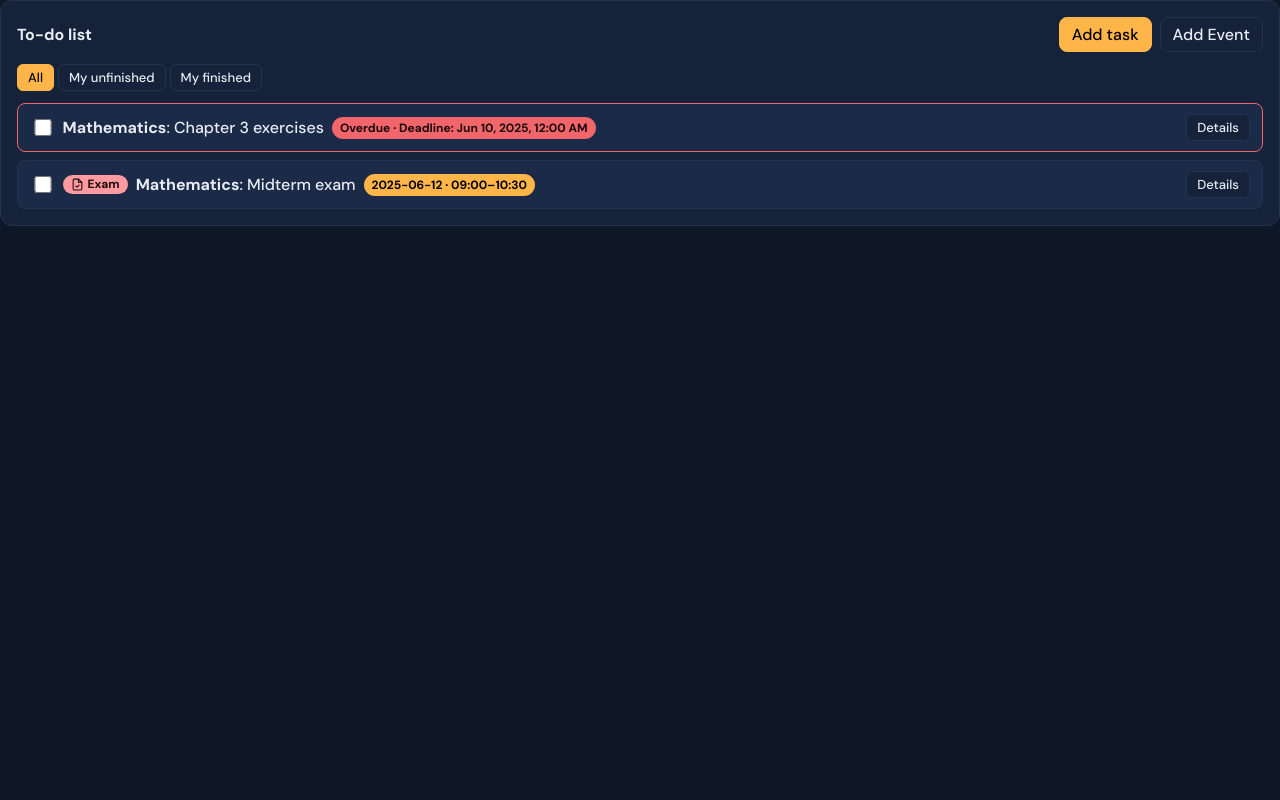
Scenario: TaskList merged tasks + events › shows an officer Remove control inside the event popup
The image size is (1280, 800).
Click the button with aria-label "Details for event Midterm exam": (1218, 184) [1186,171,1250,198]
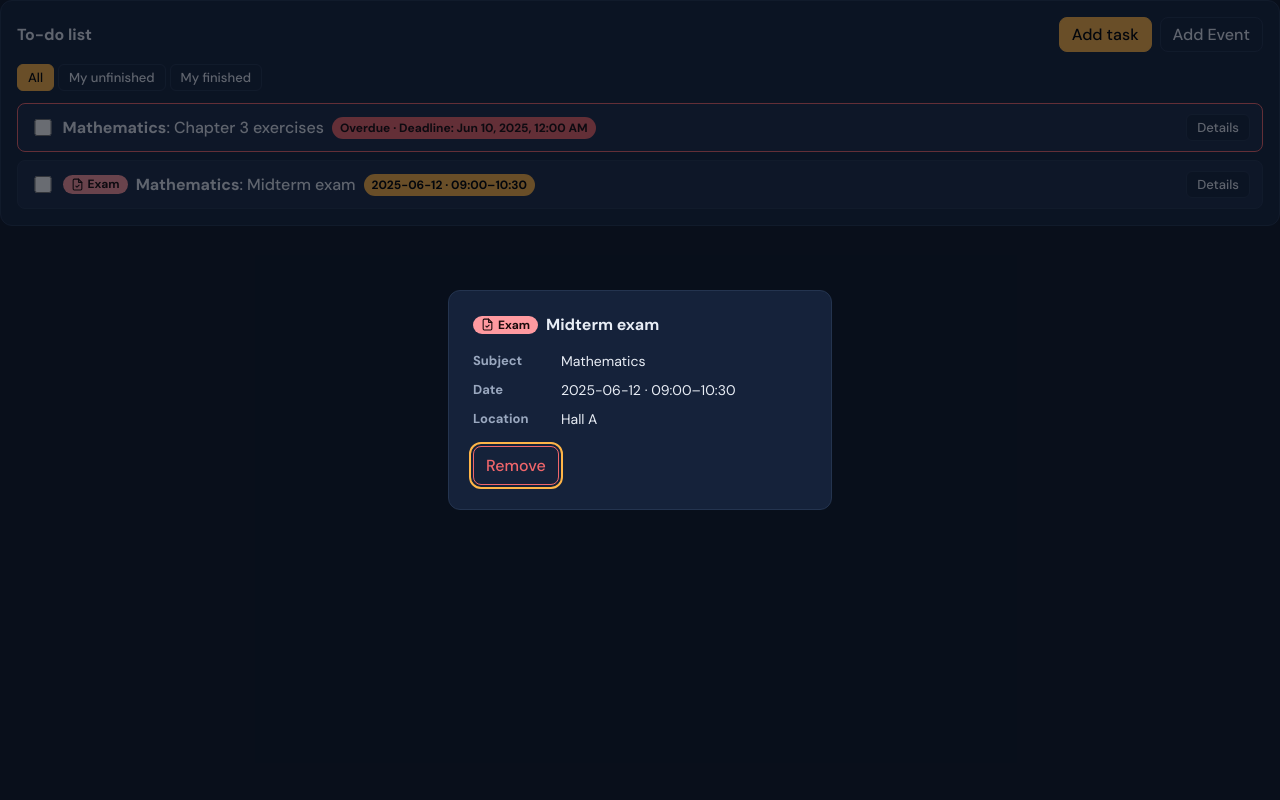
Expected: the button with aria-label "Remove event Midterm exam" is shown, [473,446,559,485]
